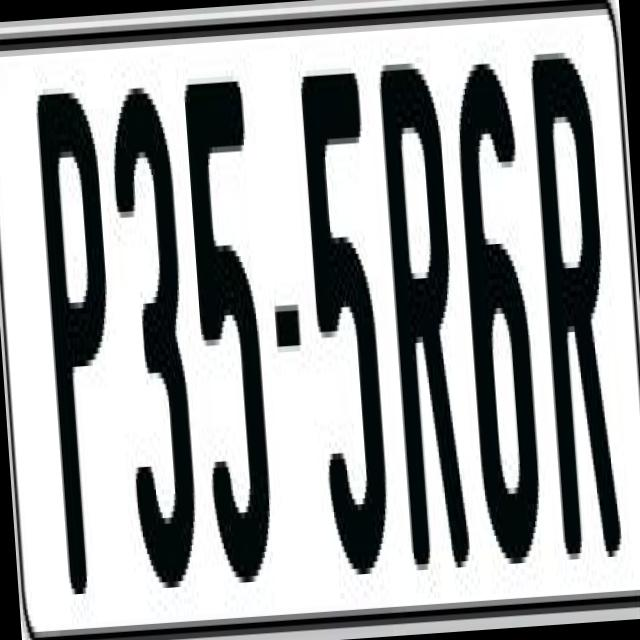3: (102, 69, 198, 607)
5: (298, 72, 401, 605), (182, 75, 276, 578)
6: (452, 56, 546, 582)
P: (34, 73, 128, 588)
R: (524, 44, 628, 583), (372, 56, 472, 600)
